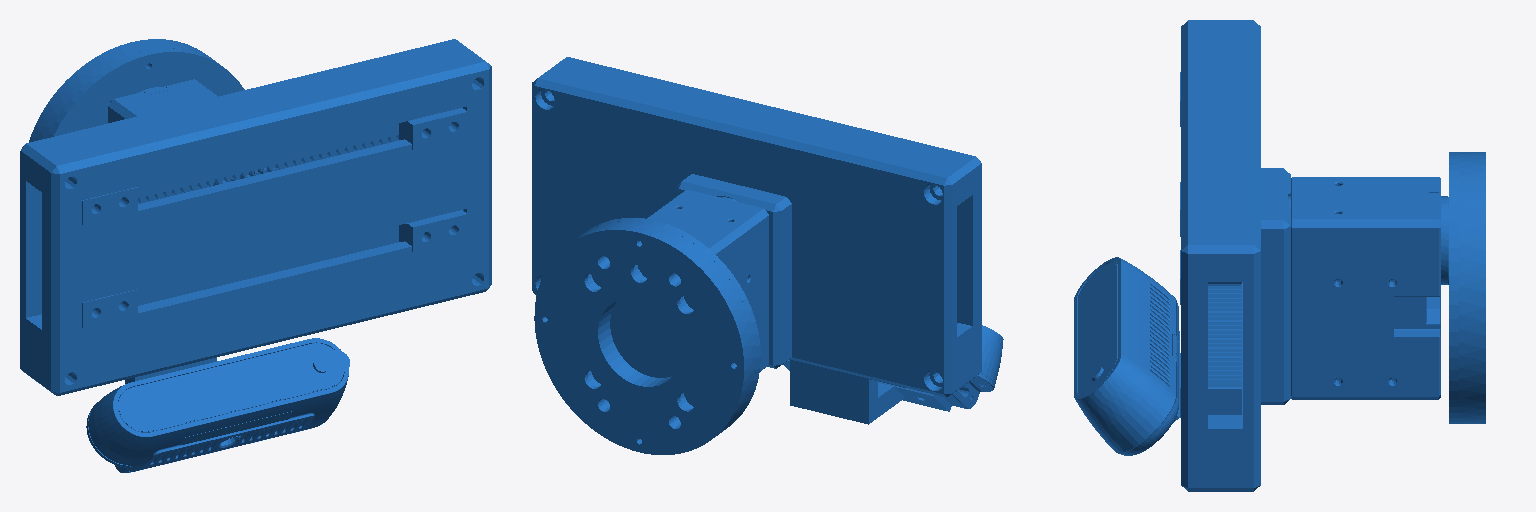
robot.urdf — gripper_body:
<?xml version="1.0"?>
<robot name="gripper_body">

  <link name="gripper_body_link">
    <visual>
      <origin xyz="0 0 0" rpy="0 0 0"/>
      <geometry>
        <mesh filename="gripper_body_camera_urdf.stl" scale="0.001 0.001 0.001"/>
      </geometry>
      <material name="blue">
        <color rgba="0.2 0.5 0.8 1.0"/>
      </material>
    </visual>
    <collision>
      <origin xyz="0 0 0" rpy="0 0 0"/>
      <geometry>
        <mesh filename="gripper_body_camera_urdf.stl" scale="0.001 0.001 0.001"/>
      </geometry>
    </collision>
  </link>

</robot>

--- Render facts (derived) ---
The picture shows the robot from 3 angles, left to right: view 1: azimuth 30°, elevation 25°; view 2: azimuth 150°, elevation 25°; view 3: azimuth 270°, elevation 25°; orthographic projection.
Robot: gripper_body — 1 links, 0 joints (none); root link gripper_body_link; default pose: every joint at zero.
Visible links, largest first — view 1: gripper_body_link; view 2: gripper_body_link; view 3: gripper_body_link.
Boxes of the visible links, left/top/right/bottom form: gripper_body_link: left=20, top=39, right=491, bottom=472; gripper_body_link: left=532, top=57, right=1003, bottom=454; gripper_body_link: left=1074, top=20, right=1485, bottom=491.
Size in the robot's own frame: 0.16 by 0.1213 by 0.1026 metres.
Meshes: 1 distinct files referenced, 1 mesh visuals loaded (1 binary STL).
